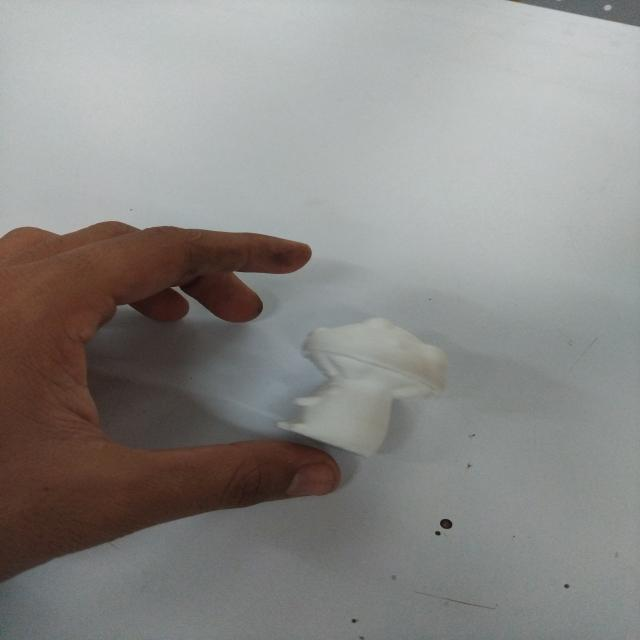Hongo: (288, 307, 458, 461)
